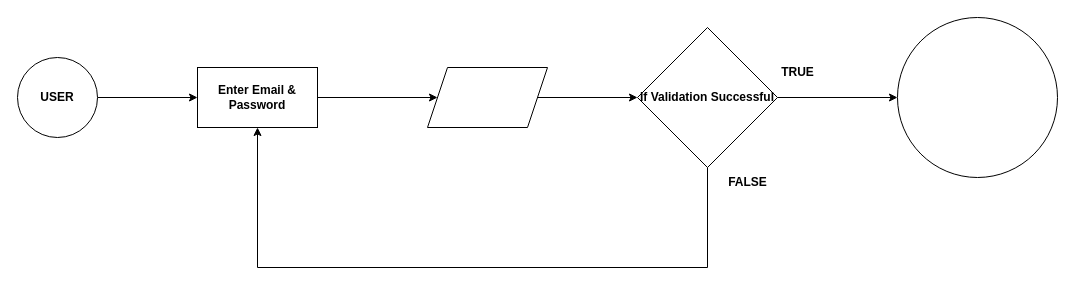
Image size: 1075x293. Some labels were removed from this diagram. The shapes that lost their labels are listed below. From the top down, each one's box as (x1, y1, x2, y2) in pixels, then its label:
(426, 66, 548, 128): Validating in the database
(896, 16, 1058, 178): Login Successful JWT token initialized
